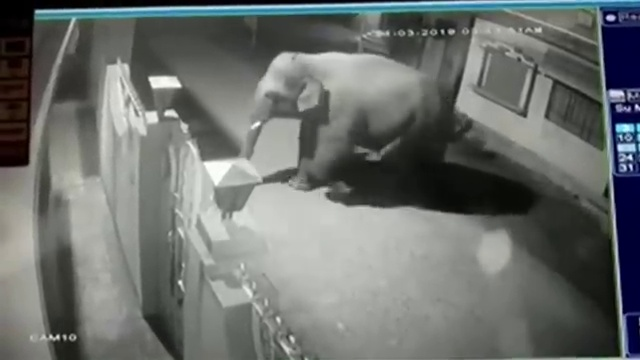Elephant: (241, 51, 448, 202)
